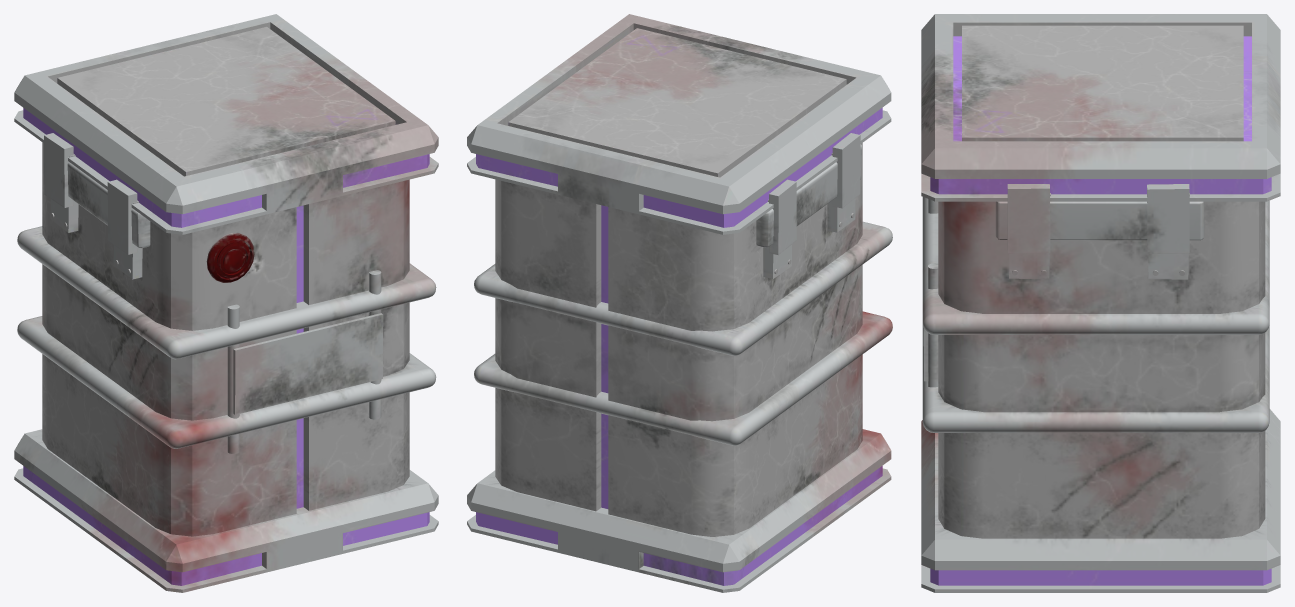
File: scifi_lab_barrel.glb
3 views of the same model, side by side, from view 1: azimuth 30°, elevation 25°; view 2: azimuth 150°, elevation 25°; view 3: azimuth 270°, elevation 25° (orthographic). The views are drawn at different scales.
Parts seen in each view (by area): view 1: pCube19; view 2: pCube19; view 3: pCube19.
Part boxes in pixels (left/top/right/bottom): pCube19: left=14, top=14, right=438, bottom=592; pCube19: left=467, top=14, right=892, bottom=592; pCube19: left=921, top=14, right=1280, bottom=592.
Bounding box in the file's own units: 2.71 × 3.75 × 2.75.
Materials: 1 (1 with a texture image).
